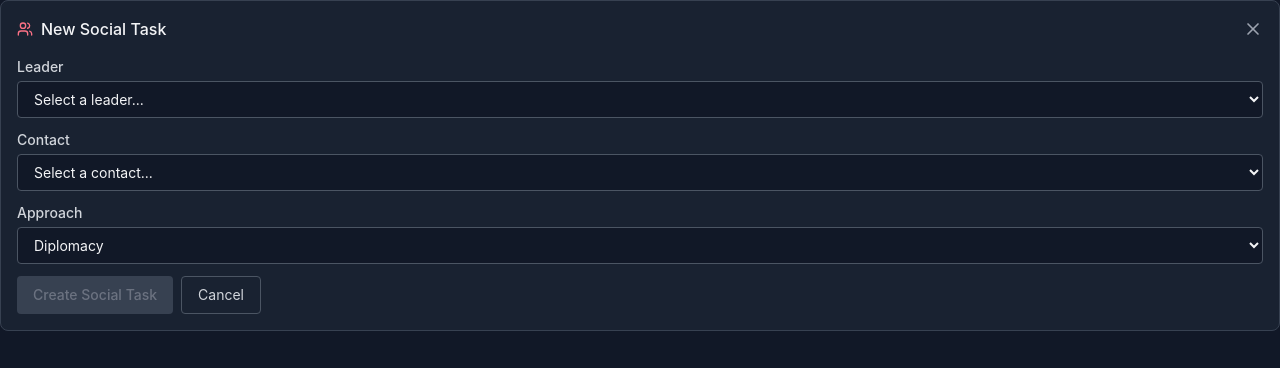
Test: SocialTaskForm › shows a contact at the active location without an elsewhere warning
The width and height of the screenshot is (1280, 368).
Select "Dockworkers' Guild (−2)" in the dropdown with test id "contact-select" at {"x": 640, "y": 172}, box [17, 154, 1263, 191]
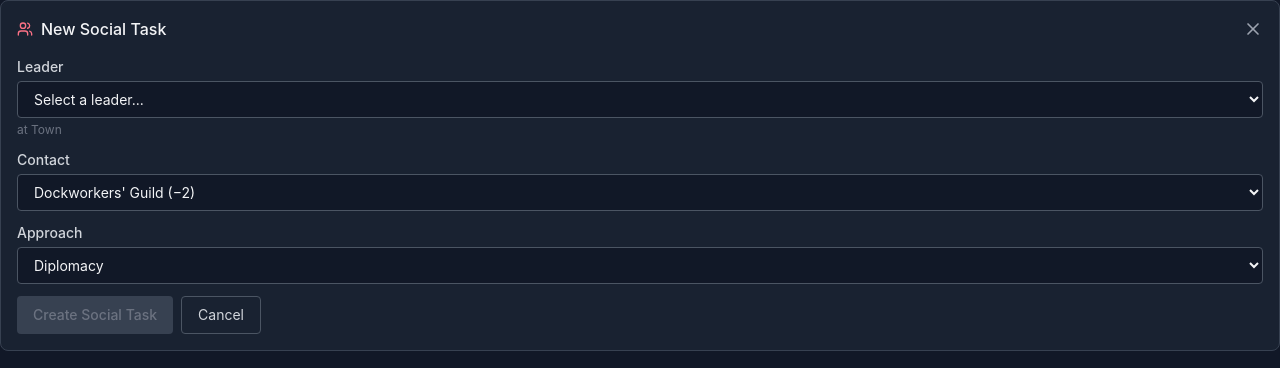
Check: the text with test id "contact-presence-hint" does not show "party elsewhere", box [17, 122, 62, 137]
Check: the text with test id "contact-presence-hint" reads "at Town", box [17, 122, 62, 137]
